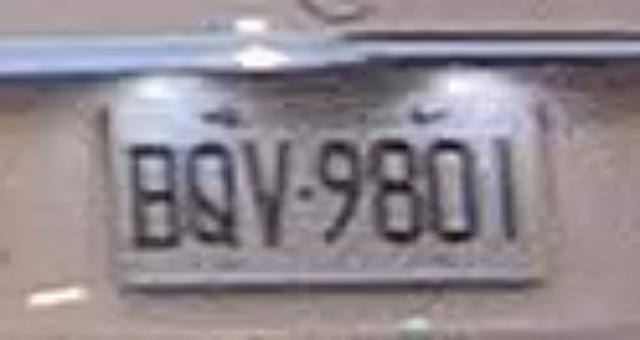plate: (108, 91, 537, 279)
